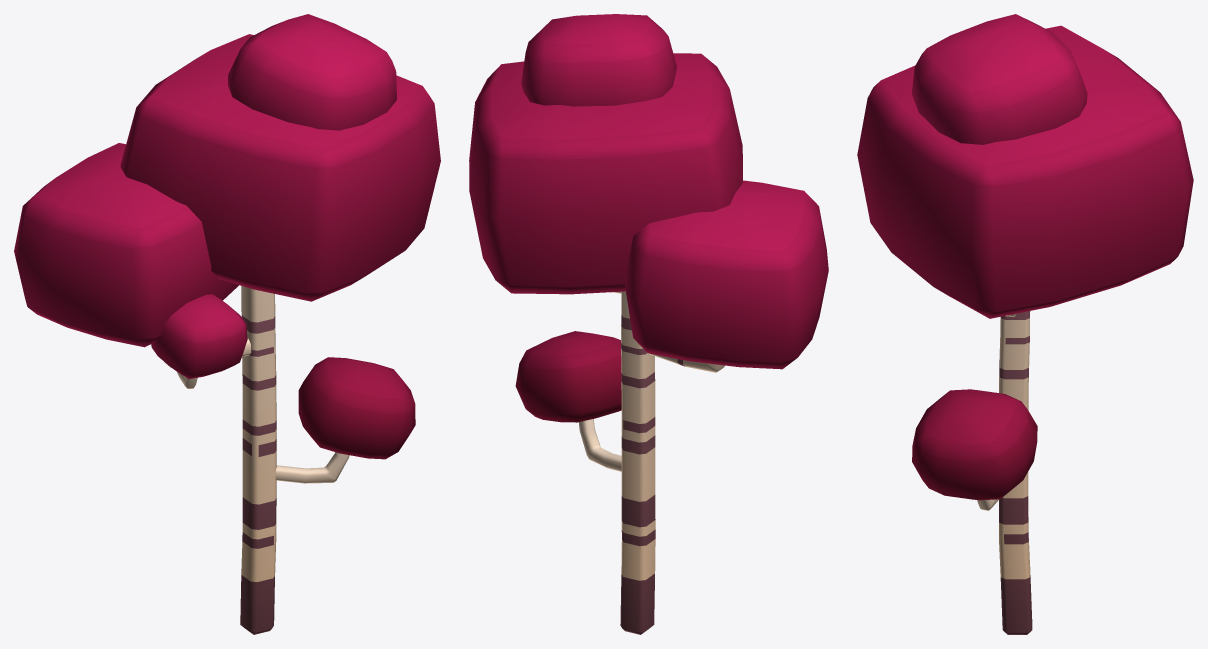
File: Birch_S.fbx
3 views of the same model, side by side, from view 1: azimuth 30°, elevation 25°; view 2: azimuth 150°, elevation 25°; view 3: azimuth 270°, elevation 25° (orthographic). The views are drawn at different scales.
Visible parts, largest first — view 1: pCube2; view 2: pCube2; view 3: pCube2.
Boxes of the visible parts, box(x1,y1,x2,y2) form: pCube2: box(14, 14, 440, 634); pCube2: box(469, 14, 828, 634); pCube2: box(857, 14, 1193, 634).
Bounding box in the file's own units: 604 × 922 × 455.
